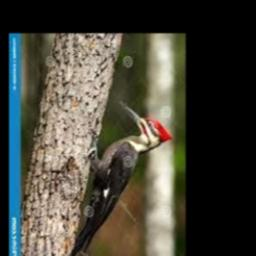Woodpecker: (66, 101, 171, 256)
